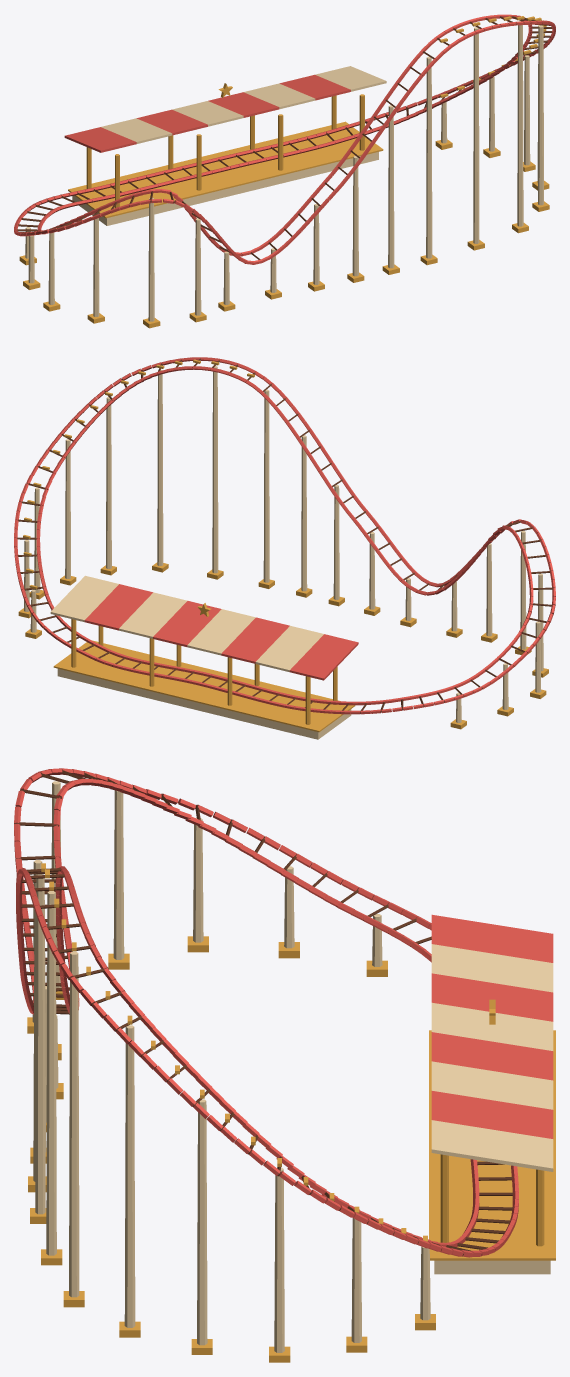
File: ParkParkCoasterTrackV2.obj
The picture shows the model from 3 angles, top to bottom: view 1: azimuth 30°, elevation 25°; view 2: azimuth 150°, elevation 25°; view 3: azimuth 270°, elevation 25°; orthographic projection. The views are drawn at different scales.
Parts seen in each view (by area): view 1: ParkParkCoasterTrackV2; view 2: ParkParkCoasterTrackV2; view 3: ParkParkCoasterTrackV2.
Part boxes in pixels (x1=…): ParkParkCoasterTrackV2: x1=14, y1=14, x2=555, y2=328; ParkParkCoasterTrackV2: x1=14, y1=357, x2=555, y2=739; ParkParkCoasterTrackV2: x1=14, y1=768, x2=555, y2=1362.
Bounding box in the file's own units: 38.45 × 15.71 × 20.49.
